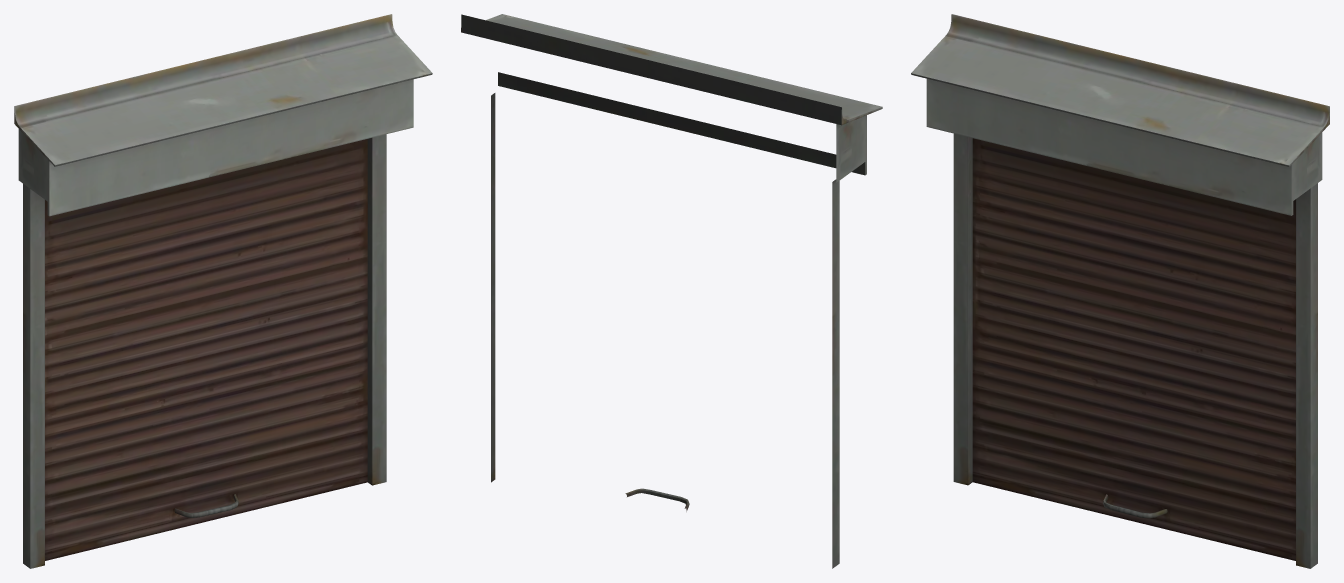
3 renders of one model, left to right at view 1: azimuth 30°, elevation 25°; view 2: azimuth 150°, elevation 25°; view 3: azimuth 330°, elevation 25°, orthographic.
Parts seen in each view (by area): view 1: body0_model0_lod0_mesh0; view 2: body0_model0_lod0_mesh0; view 3: body0_model0_lod0_mesh0.
Boxes of the visible parts, box(x1,y1,x2,y2) form: body0_model0_lod0_mesh0: box(14, 14, 432, 568); body0_model0_lod0_mesh0: box(461, 14, 882, 568); body0_model0_lod0_mesh0: box(911, 14, 1329, 568).
Size of the model in its own units: 128 by 149 by 24.28.
Materials: 1 (1 with a texture image).
